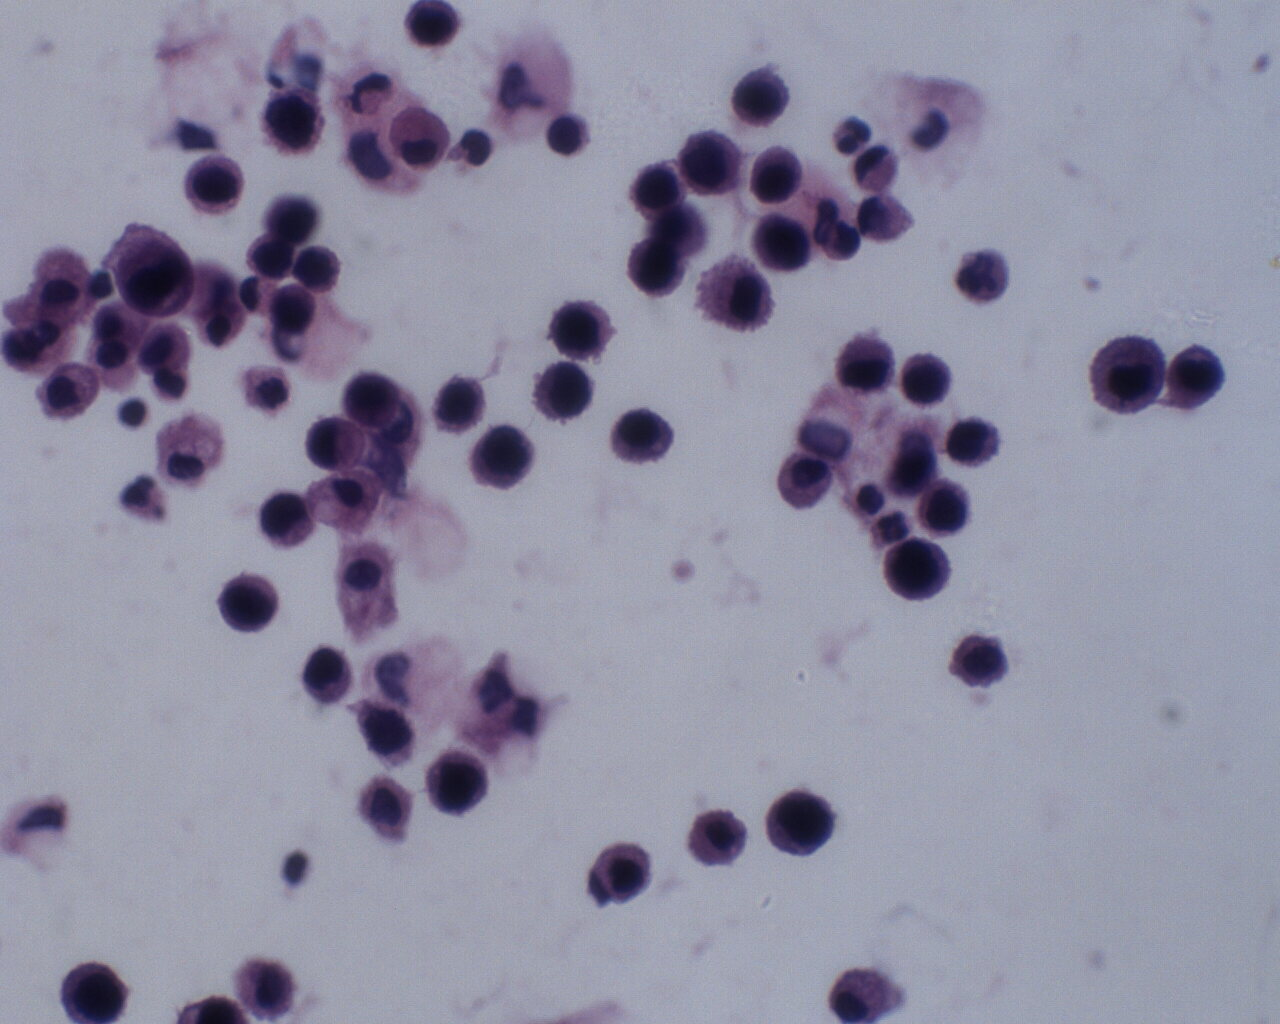ab: (106, 218, 199, 318), (764, 787, 837, 863), (467, 423, 543, 494), (418, 749, 494, 819), (883, 535, 956, 606), (56, 957, 133, 1024), (350, 699, 422, 769), (263, 85, 330, 160), (623, 232, 695, 301), (679, 125, 746, 197), (550, 295, 619, 362), (182, 150, 249, 219), (1165, 340, 1227, 414), (729, 62, 795, 131), (211, 564, 271, 639), (529, 362, 596, 424), (338, 371, 405, 430), (752, 211, 815, 274), (428, 374, 490, 438), (942, 414, 1006, 474), (257, 487, 316, 553), (297, 646, 357, 707), (749, 144, 806, 209), (918, 475, 974, 537), (899, 351, 955, 409), (404, 1, 464, 53), (246, 228, 297, 285), (293, 241, 342, 290)
meso: (591, 838, 660, 907), (385, 104, 455, 172), (682, 805, 752, 872), (34, 360, 101, 427), (774, 447, 836, 507)
